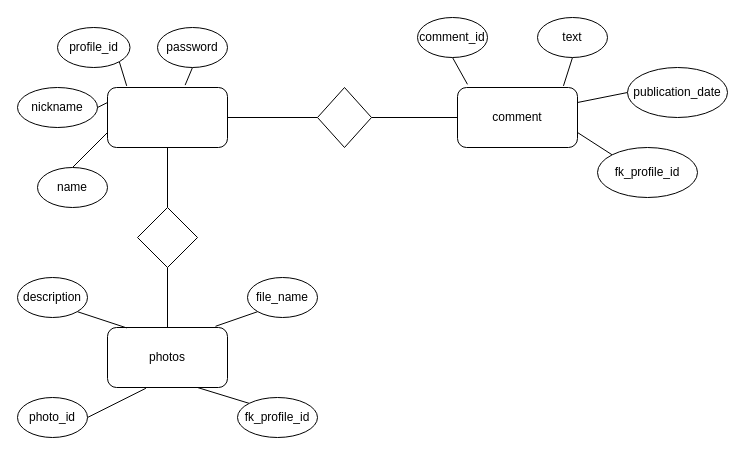
Image size: 745x455. Some labels were removed from this diagram. The shapes that lost their labels are listed below. From the top down, each one's box as (x1, y1, x2, y2) in pixels, then its label:
(106, 86, 228, 148): profile
(316, 86, 372, 148): writes
(136, 206, 198, 268): has
